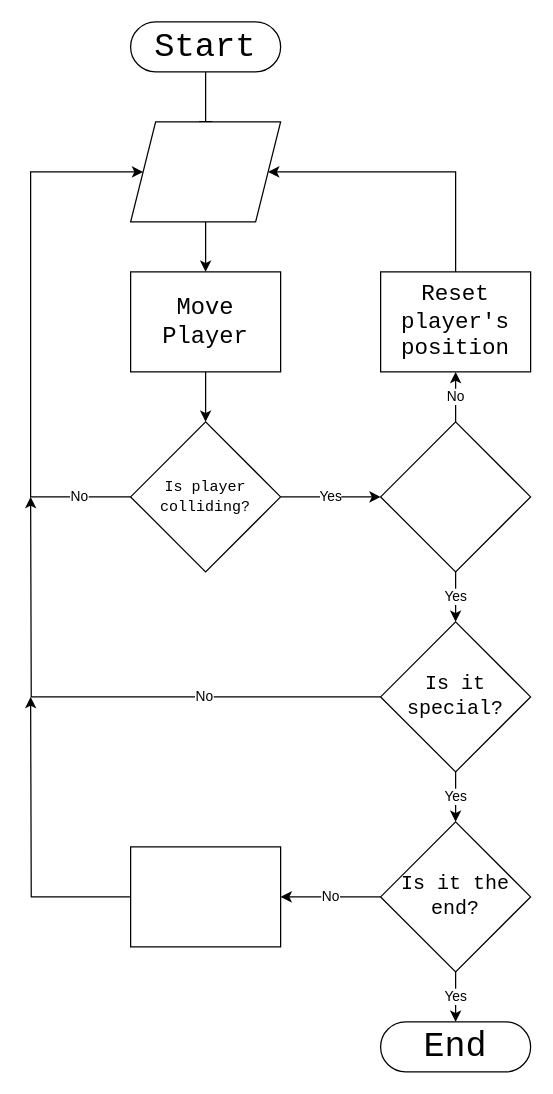
Image size: 553x1094. Some labels were removed from this diagram. The shapes that lost their labels are listed below. From the top down, each one's centre as x and y in pixels, then its label:
(x=205, y=171): Input Get wasd controls
(x=455, y=496): Can the player move onto it?
(x=205, y=896): Do its thing
